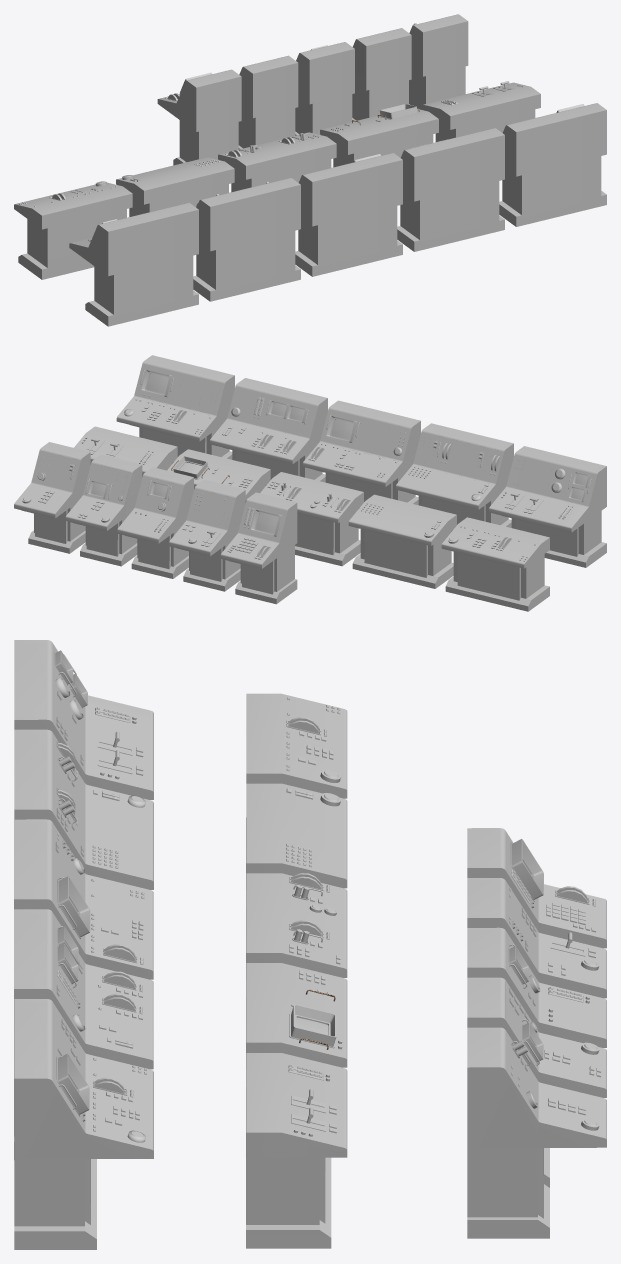
Rendered from imerpialcomputerpack1.fbx.
The picture shows the model from 3 angles, top to bottom: view 1: azimuth 30°, elevation 25°; view 2: azimuth 150°, elevation 25°; view 3: azimuth 270°, elevation 25°; orthographic projection. The views are drawn at different scales.
Parts seen in each view (by area): view 1: renderMesh0; view 2: renderMesh0; view 3: renderMesh0.
Part boxes in pixels (box(x1,y1,x2,y2)): renderMesh0: box(14, 14, 606, 326); renderMesh0: box(14, 355, 606, 611); renderMesh0: box(14, 640, 606, 1249).
Bounding box in the file's own units: 353 × 64.08 × 201.
